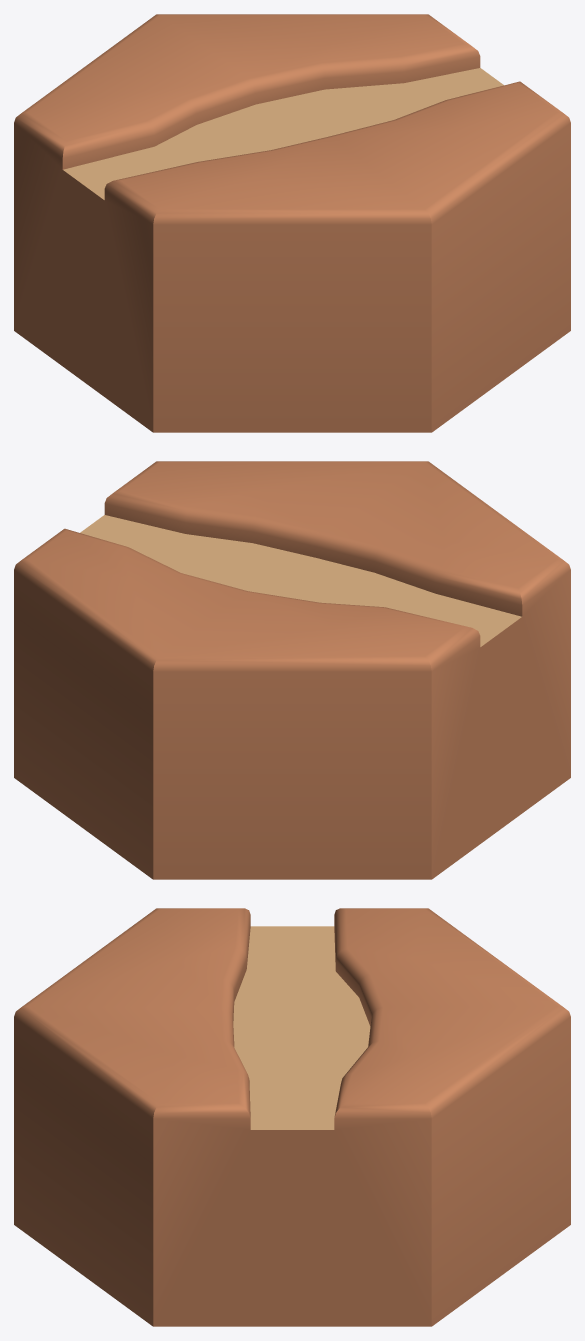
File: hex_rock_roadB.glb
The picture shows the model from 3 angles, top to bottom: view 1: azimuth 30°, elevation 25°; view 2: azimuth 150°, elevation 25°; view 3: azimuth 270°, elevation 25°; orthographic projection.
Visible parts, largest first — view 1: hex_rock_roadB; view 2: hex_rock_roadB; view 3: hex_rock_roadB.
Part boxes in pixels (x1,y1,x2,y2): hex_rock_roadB: (14,14,570,432); hex_rock_roadB: (14,461,570,879); hex_rock_roadB: (14,908,570,1326).
Size of the model in its own units: 3.82 by 1.91 by 4.41.
